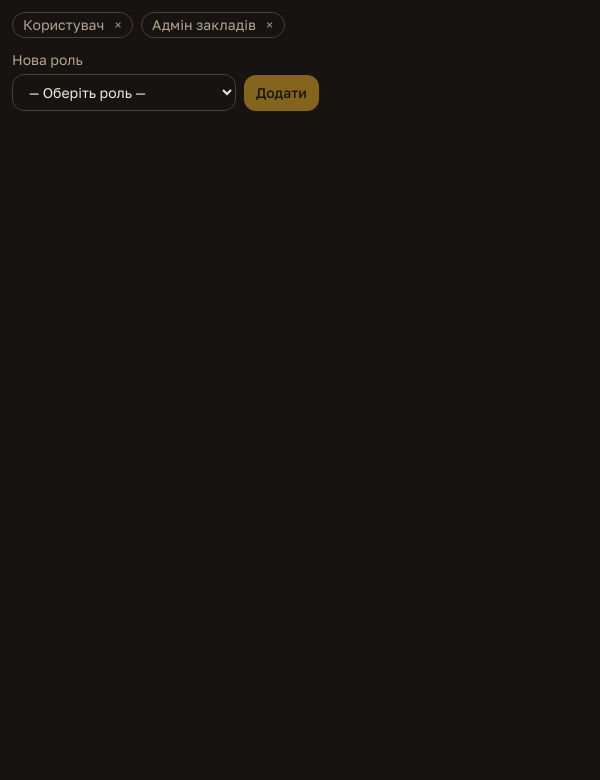
Test case: UserRolesManager › вибір ролі + «Додати» → POST { roleCode: "critic", action: "add" } → toast + refresh
The image size is (600, 780).
Select "Критик" in the dropdown: (124, 92) [12, 74, 236, 111]
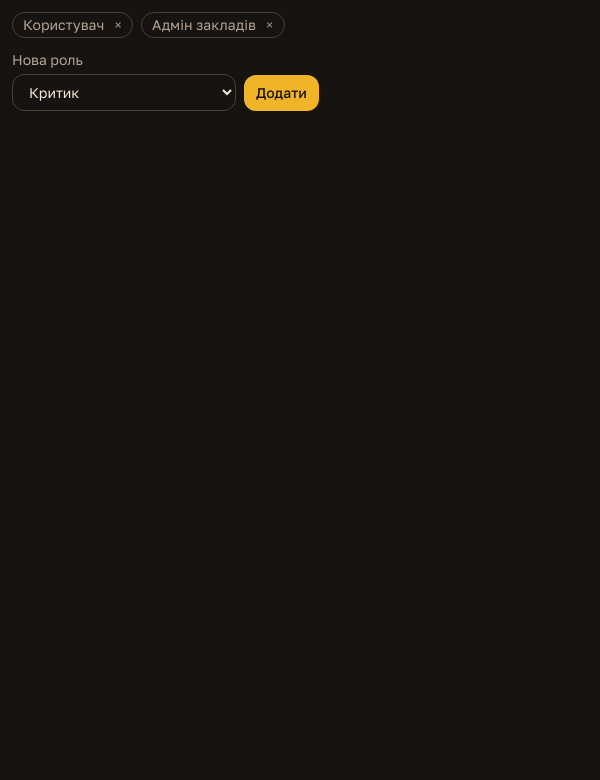
Click the button "Додати": (281, 93) [244, 75, 319, 111]
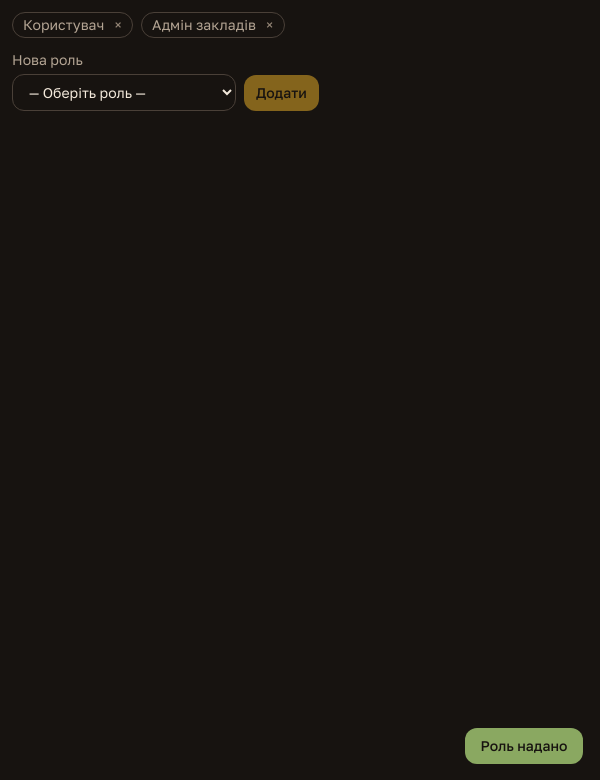
Now the message reads "Роль надано", box [481, 737, 568, 754]
